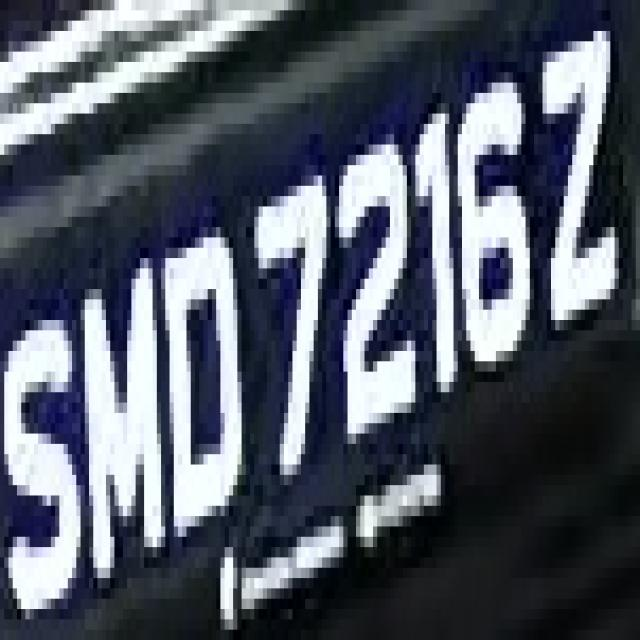1: (415, 51, 462, 444)
2: (334, 113, 420, 464)
6: (449, 93, 538, 392)
7: (246, 155, 335, 495)
D: (140, 206, 246, 526)
M: (72, 227, 165, 578)
S: (0, 268, 85, 578)
Z: (538, 21, 623, 351)
